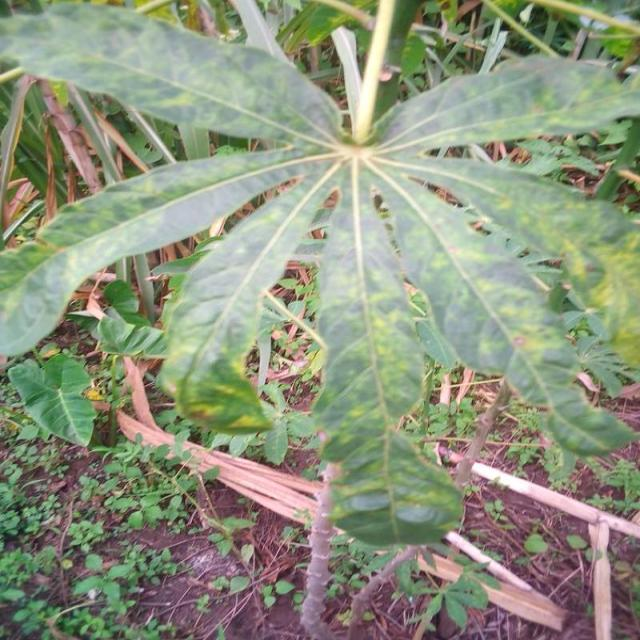cassava leaf: (2, 0, 640, 549)
